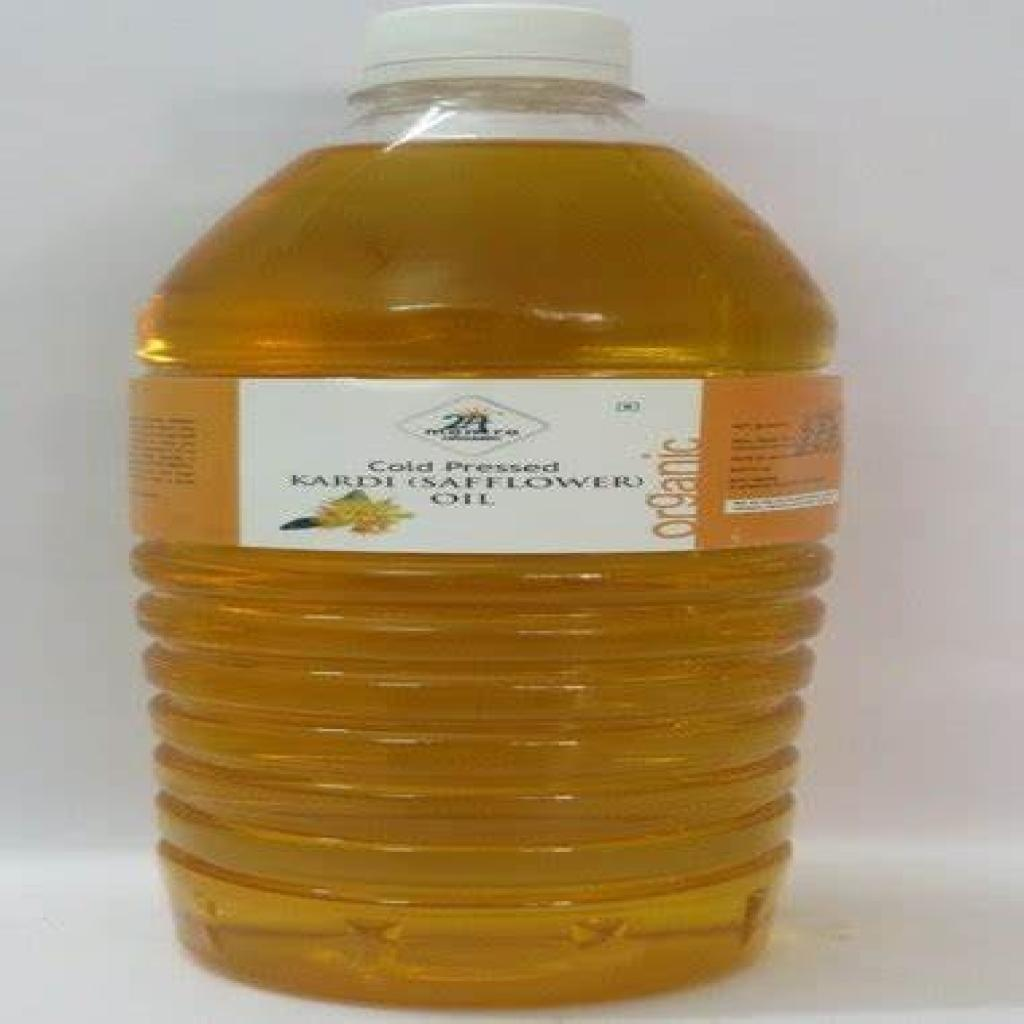organico: (108, 15, 853, 1017)
